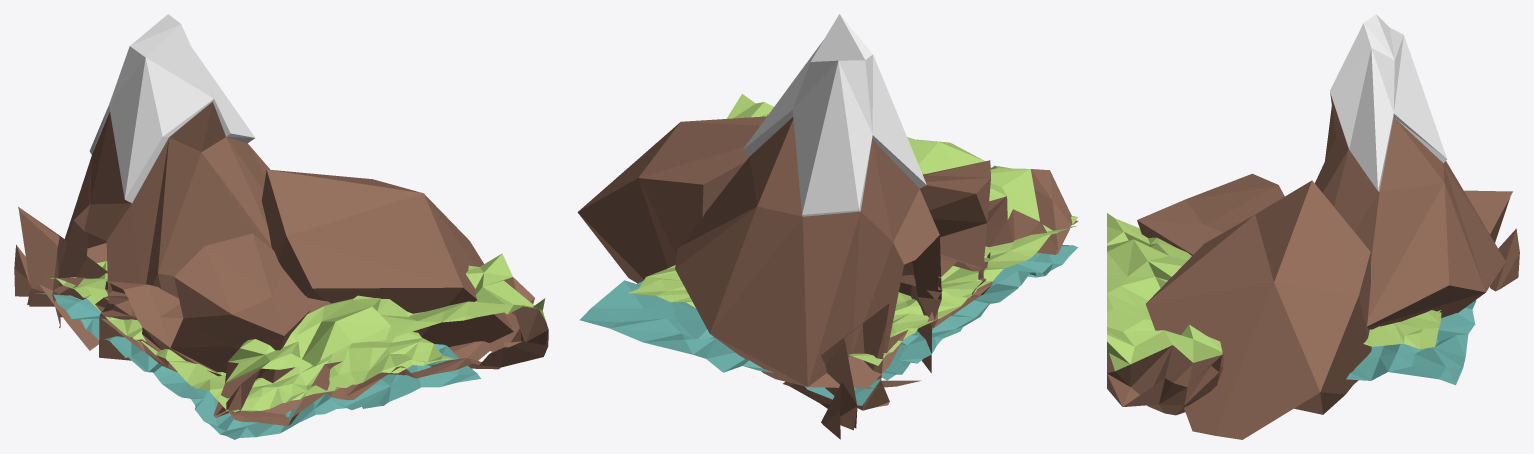
File: RG_Terrain-Mesh-01.fbx
3 views of the same model, side by side, from view 1: azimuth 30°, elevation 25°; view 2: azimuth 150°, elevation 25°; view 3: azimuth 270°, elevation 25° (orthographic). The views are drawn at different scales.
Parts seen in each view (by area): view 1: RG_Terrain-Mesh-01; view 2: RG_Terrain-Mesh-01; view 3: RG_Terrain-Mesh-01.
Part boxes in pixels (x1,y1,x2,y2): RG_Terrain-Mesh-01: (14, 14, 548, 439); RG_Terrain-Mesh-01: (577, 14, 1078, 439); RG_Terrain-Mesh-01: (1107, 14, 1519, 439).
Bounding box in the file's own units: 125 × 108 × 135.
